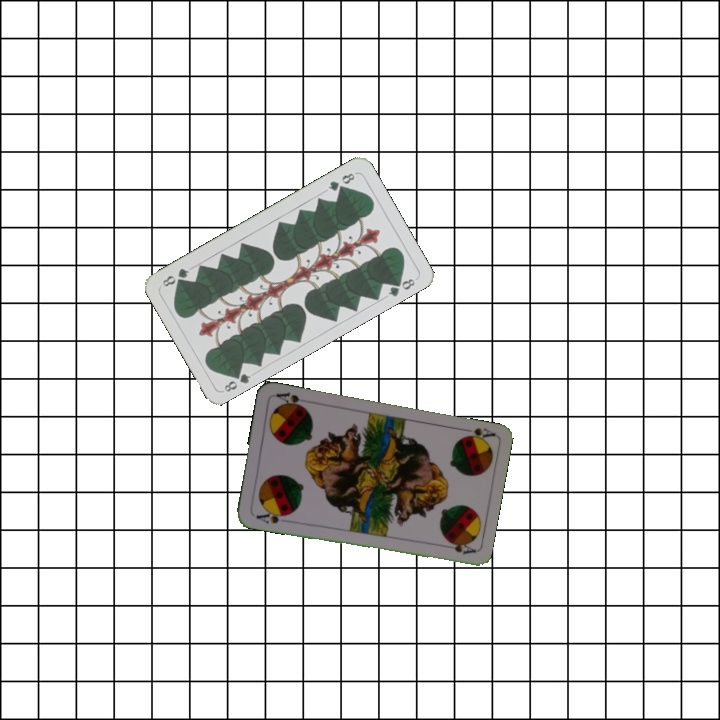G8: (220, 366, 253, 395), (324, 169, 357, 194)
SA: (457, 424, 497, 445), (252, 506, 291, 526)
